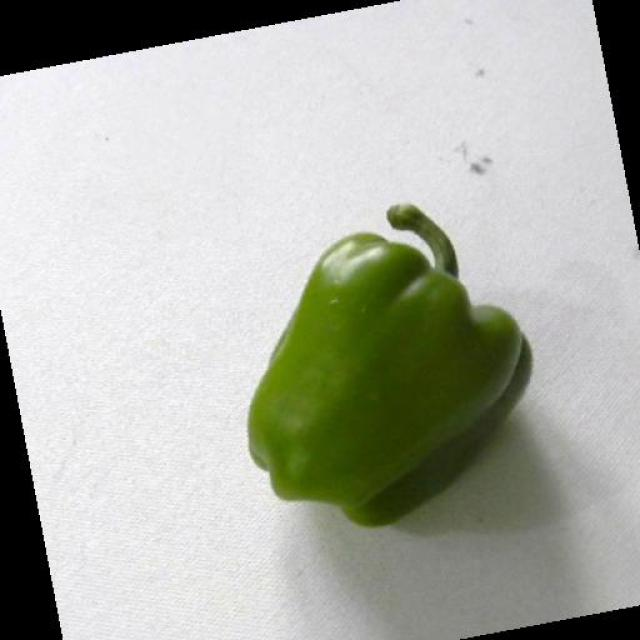Fresh_Capsicum: (248, 209, 512, 555)
